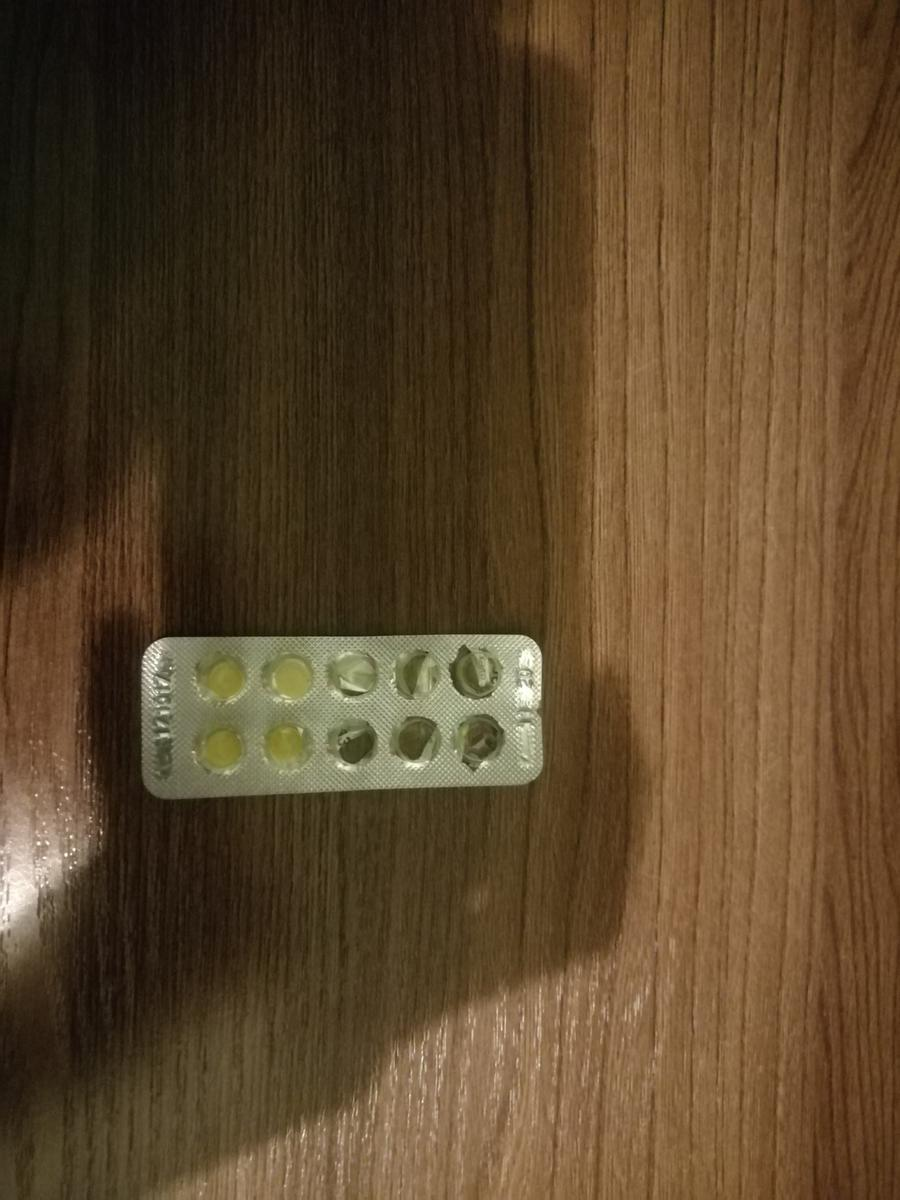tablet: (194, 657, 247, 704), (264, 654, 317, 701), (259, 724, 312, 771), (192, 725, 245, 772)
